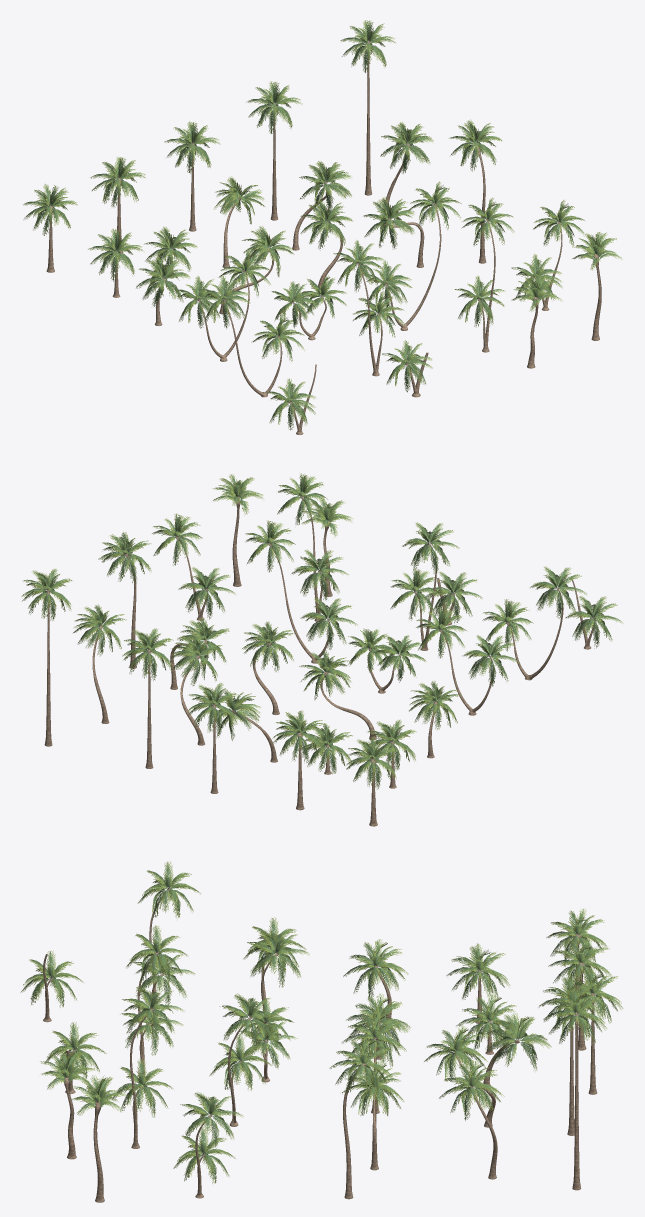
Rendered from palmtree.glb.
The picture shows the model from 3 angles, top to bottom: view 1: azimuth 30°, elevation 25°; view 2: azimuth 150°, elevation 25°; view 3: azimuth 270°, elevation 25°; orthographic projection. The views are drawn at different scales.
Parts seen in each view (by area): view 1: M_Palm_P2_19, M_Palm_P2_20, M_Palm_P2_21, M_Palm_P2_18, M_Palm_P2_16, M_Palm_P2_22, M_Palm_P2_17, M_Palm_P2_5, M_Palm_P2_4, M_Palm_P2_15, M_Palm_P2_9, M_Palm_P2_3 (+14 smaller); view 2: M_Palm_P2_18, M_Palm_P2_19, M_Palm_P2_16, M_Palm_P2_20, M_Palm_P2_21, M_Palm_P2_22, M_Palm_P2_17, M_Palm_P2_5, M_Palm_P2_4, M_Palm_P2_15, M_Palm_P2_10, M_Palm_P2_2 (+14 smaller); view 3: M_Palm_P2_21, M_Palm_P2_18, M_Palm_P2_22, M_Palm_P2_20, M_Palm_P2_19, M_Palm_P2_5, M_Palm_P2_15, M_Palm_P2_16, M_Palm_P2_10, M_Palm_P2_8, M_Palm_P2_11, M_Palm_P2_6 (+14 smaller).
Boxes of the visible parts, x1,y1,x2,y2 form: M_Palm_P2_19: (199,275,304,397); M_Palm_P2_20: (333,240,404,376); M_Palm_P2_21: (454,198,514,352); M_Palm_P2_18: (363,181,461,330); M_Palm_P2_16: (173,249,270,361); M_Palm_P2_22: (511,200,585,310); M_Palm_P2_17: (271,275,346,340); M_Palm_P2_5: (340,20,396,195); M_Palm_P2_4: (247,81,302,220); M_Palm_P2_15: (449,119,501,263); M_Palm_P2_9: (292,161,351,250); M_Palm_P2_3: (164,121,220,231); M_Palm_P2_18: (245,520,357,663); M_Palm_P2_19: (482,566,586,680); M_Palm_P2_16: (416,606,519,715); M_Palm_P2_20: (390,522,459,650); M_Palm_P2_21: (277,473,348,621); M_Palm_P2_22: (152,513,235,620); M_Palm_P2_17: (348,628,426,693); M_Palm_P2_5: (21,569,72,746); M_Palm_P2_4: (122,628,173,768); M_Palm_P2_15: (98,532,151,668); M_Palm_P2_10: (73,604,126,723); M_Palm_P2_2: (272,710,326,810); M_Palm_P2_21: (112,985,184,1148); M_Palm_P2_18: (209,993,282,1126); M_Palm_P2_22: (173,1092,243,1198); M_Palm_P2_20: (120,925,187,1088); M_Palm_P2_19: (133,861,200,1027); M_Palm_P2_5: (543,985,606,1190); M_Palm_P2_15: (329,1035,393,1199); M_Palm_P2_16: (243,917,309,1023); M_Palm_P2_10: (439,1059,504,1179); M_Palm_P2_8: (483,1013,551,1085); M_Palm_P2_11: (343,939,408,1024); M_Palm_P2_6: (446,943,510,1023).
Bounding box in the file's own units: 110 × 43.54 × 123.
4 materials, 2 textured.
